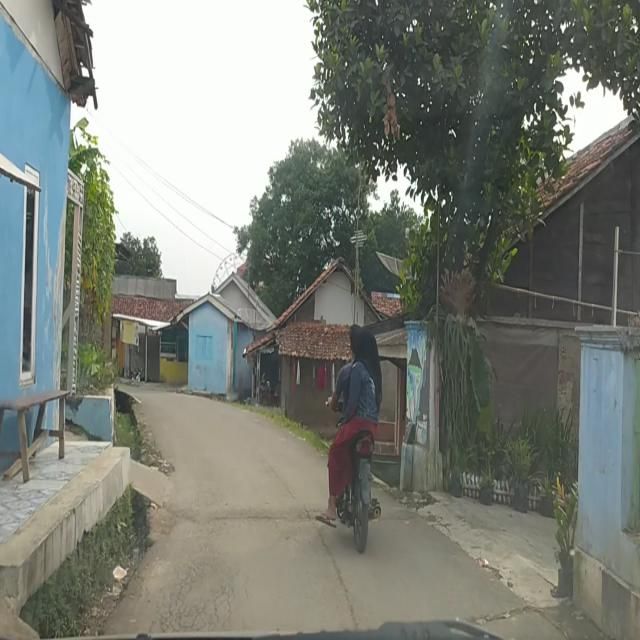Drain Hole: (152, 534, 239, 636)
Sewer Cover: (461, 598, 535, 625)
